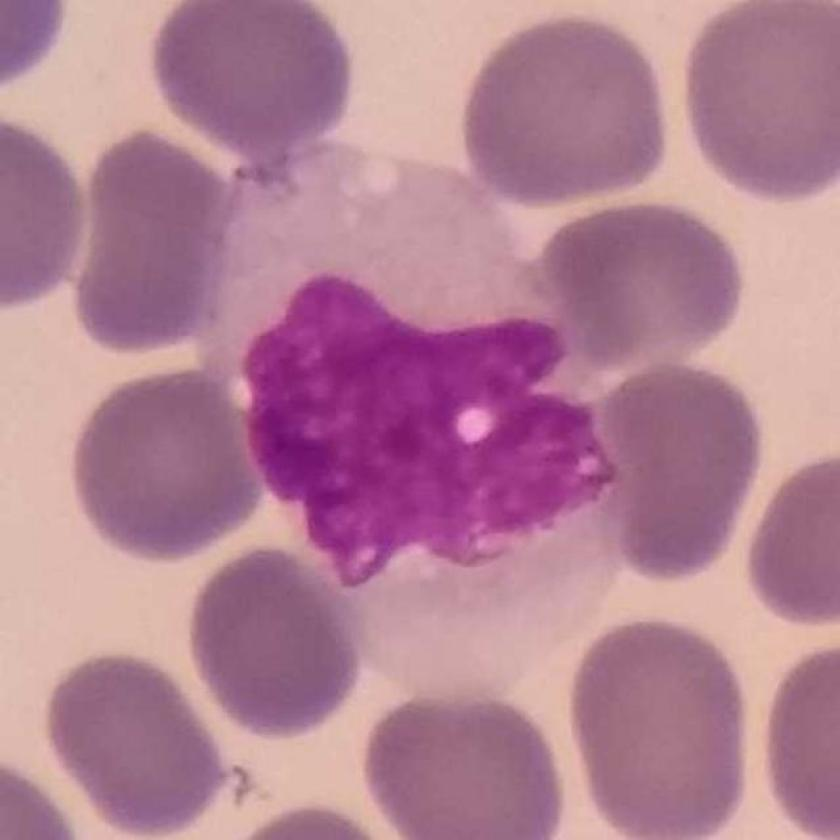monocyte: (198, 130, 636, 715)
